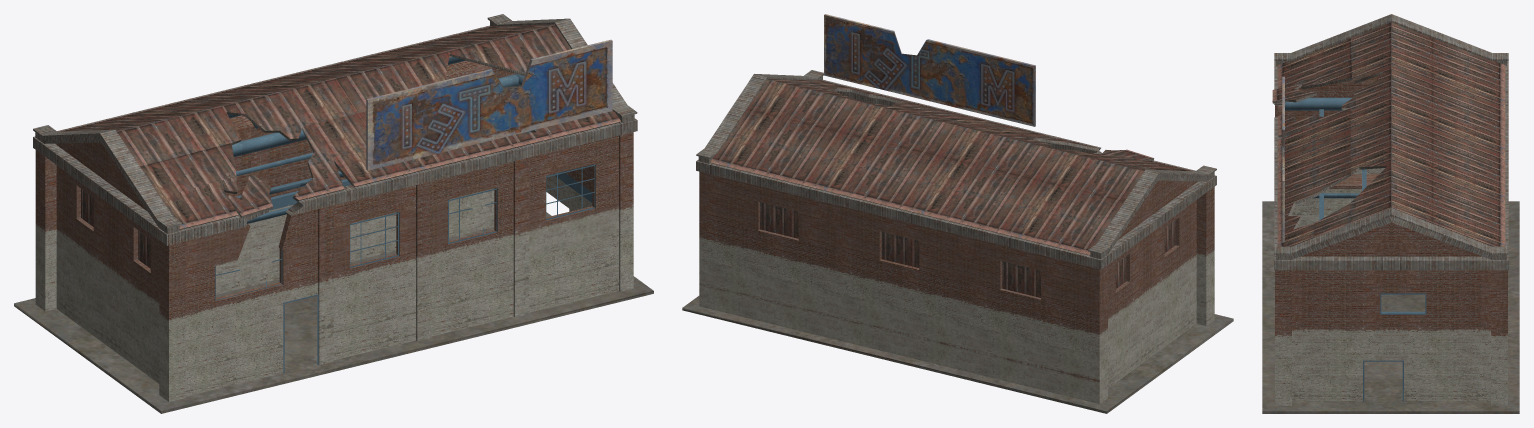
The model's file is Building_HeiygcFz09_2048_lod1.glb.
3 views of the same model, side by side, from view 1: azimuth 30°, elevation 25°; view 2: azimuth 150°, elevation 25°; view 3: azimuth 270°, elevation 25° (orthographic). The views are drawn at different scales.
Parts seen in each view (by area): view 1: xiutz_heiygc_fz_09_lod1; view 2: xiutz_heiygc_fz_09_lod1; view 3: xiutz_heiygc_fz_09_lod1.
Boxes of the visible parts, box(x1,y1,x2,y2) form: xiutz_heiygc_fz_09_lod1: box(14, 14, 653, 413); xiutz_heiygc_fz_09_lod1: box(682, 14, 1233, 413); xiutz_heiygc_fz_09_lod1: box(1262, 14, 1519, 413).
Size of the model in its own units: 39.19 by 19.26 by 20.27.
1 material, 1 textured.
